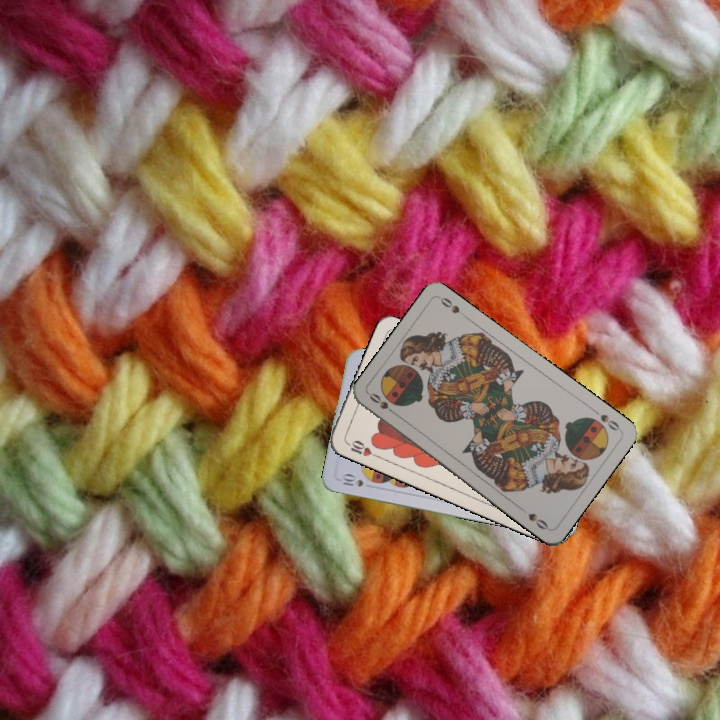H10: (342, 436, 381, 460)
S10: (339, 471, 366, 489)
SO: (365, 389, 400, 419), (588, 404, 622, 433)
